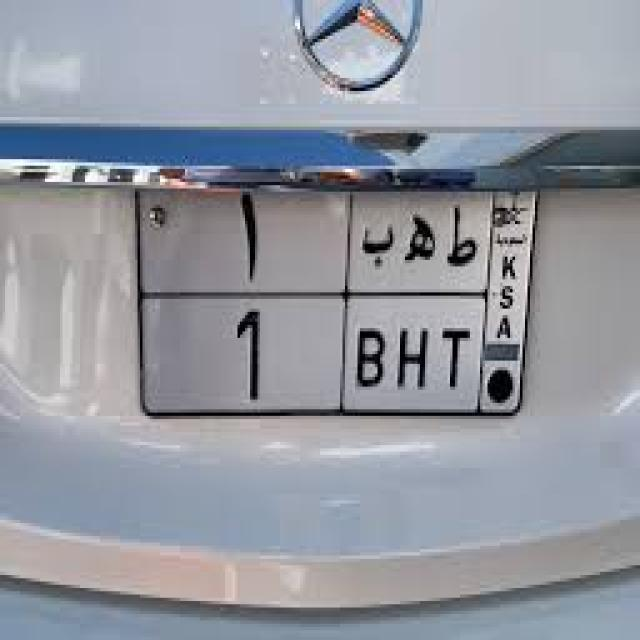license_plate: (140, 178, 540, 419)
